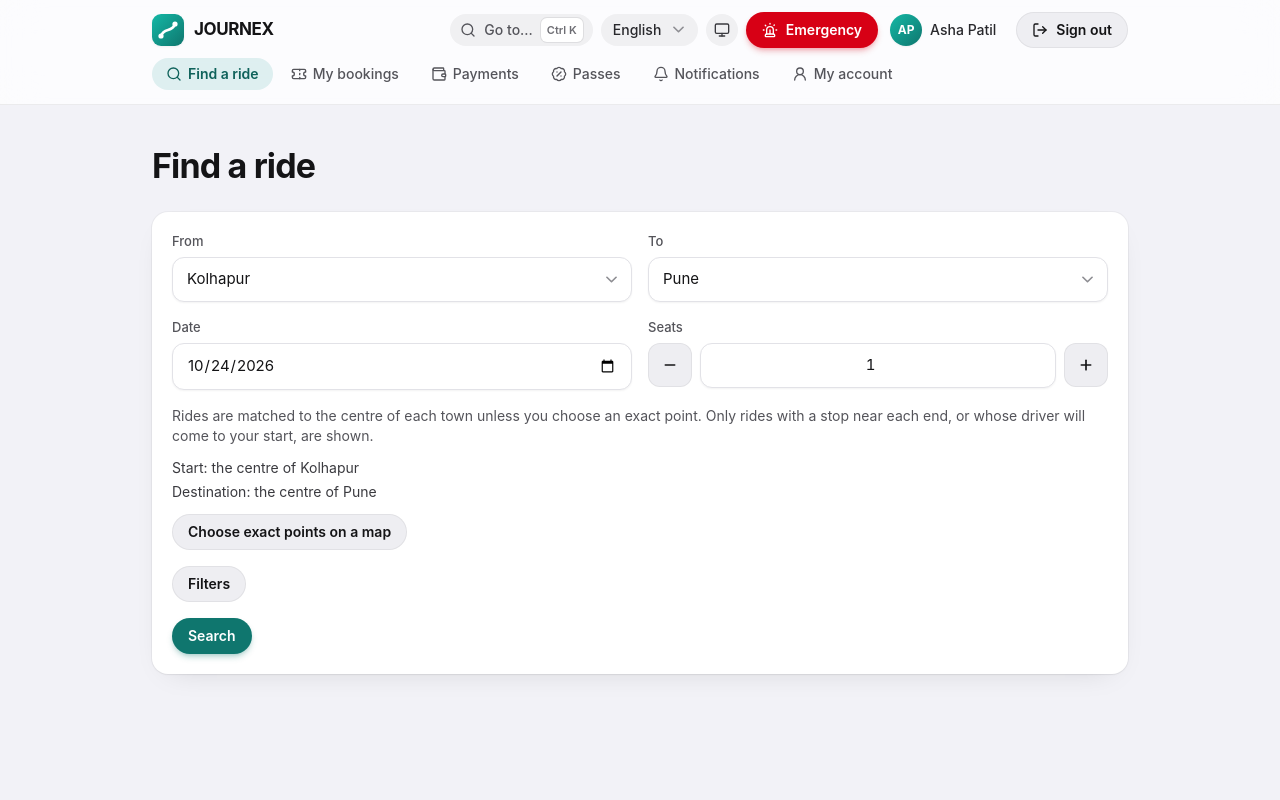
Scenario: finding and booking a ride › says so when nothing matches, and offers a retry when the search fails
Click the button "Search".
click(212, 636)  # box [172, 618, 252, 654]
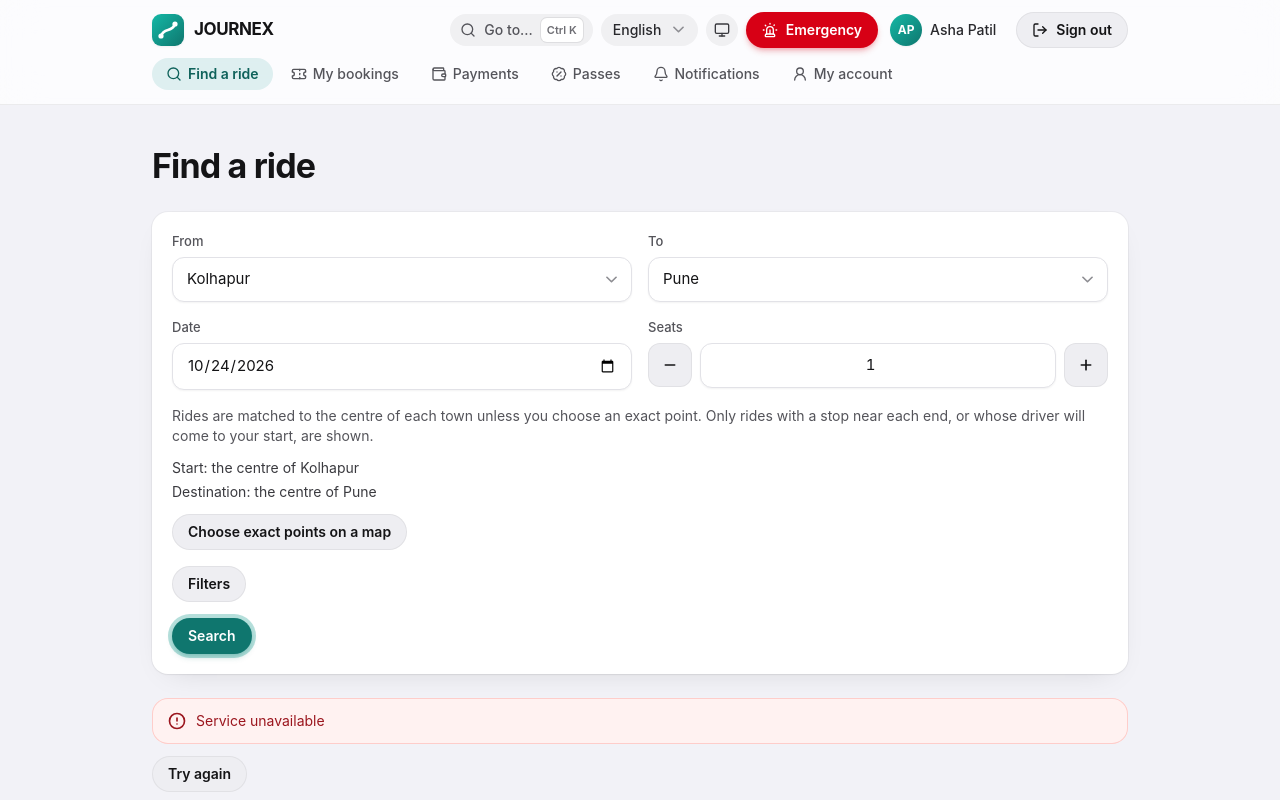
Result: the message reads "Service unavailable" at [196, 712, 325, 728]
Click the button "Try again".
click(200, 774)  # box [152, 756, 247, 792]
(page scrolled)
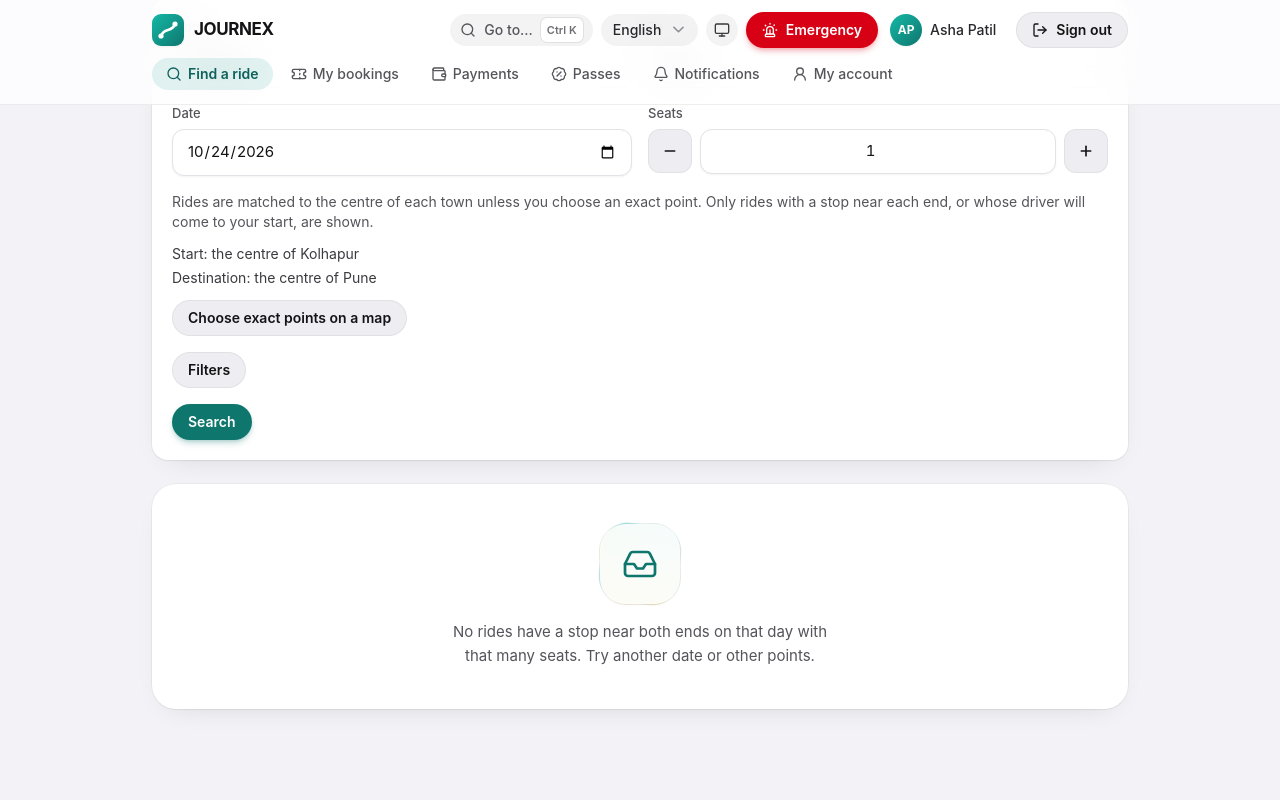
Result: the text "No rides have a stop near both ends" is shown at [453, 622, 827, 665]
